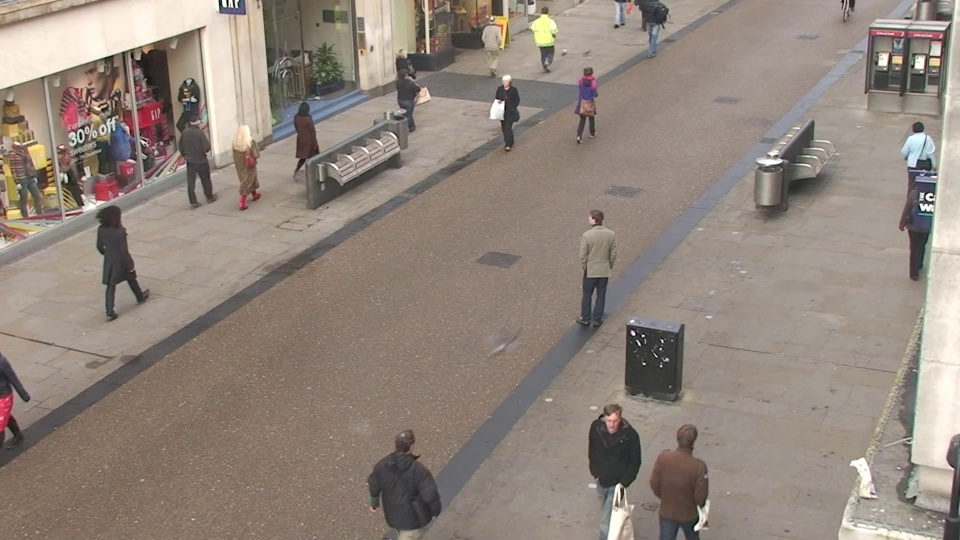pedestrian: (584, 397, 638, 540), (655, 413, 714, 540), (378, 419, 438, 540), (91, 202, 141, 318), (577, 203, 615, 323), (892, 117, 937, 217), (229, 119, 266, 214), (178, 110, 216, 202), (289, 98, 322, 187), (494, 72, 523, 155), (390, 65, 419, 146), (575, 63, 602, 144), (389, 48, 416, 124), (480, 13, 504, 80), (532, 5, 555, 69)
